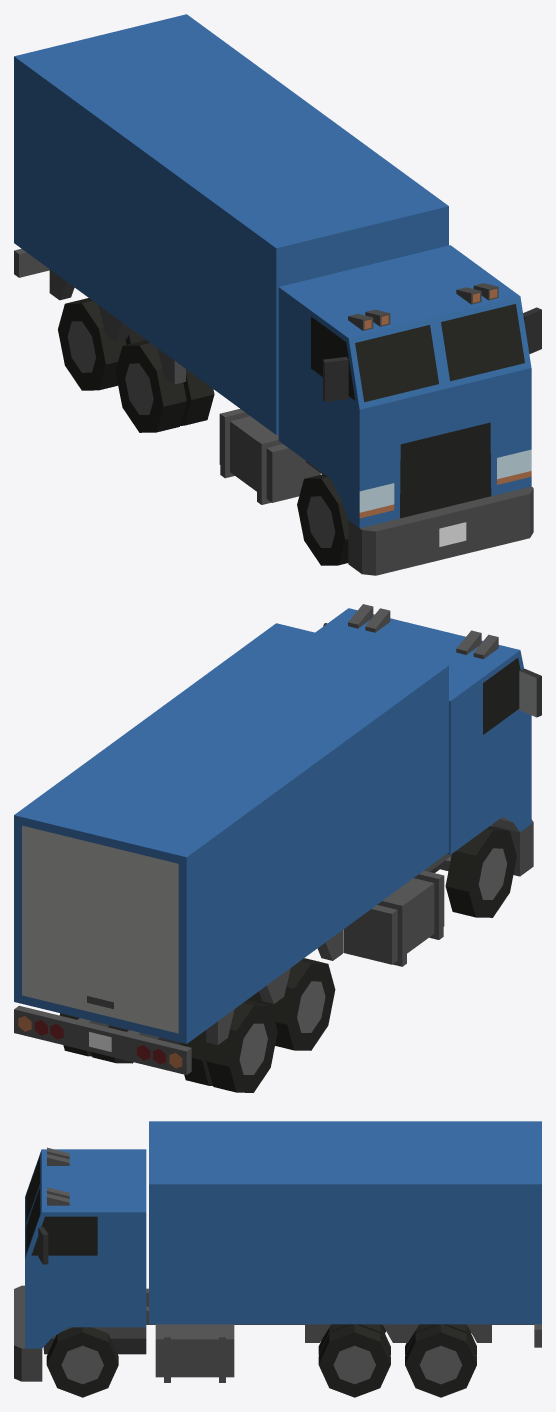
The model's file is Veh_Truck_03_Blue.glb.
3 views of the same model, one above another, from view 1: azimuth 30°, elevation 25°; view 2: azimuth 150°, elevation 25°; view 3: azimuth 270°, elevation 25° (orthographic). The views are drawn at different scales.
Visible parts, largest first — view 1: Truck_03_Blue, Wheel_RR1, Wheel_RR2, Wheel_FR; view 2: Truck_03_Blue, Wheel_RR2, Wheel_FR, Wheel_RR1; view 3: Truck_03_Blue, Wheel_RL1, Wheel_RL2, Wheel_FL.
Part boxes in pixels (x1=…): Truck_03_Blue: x1=14, y1=14, x2=541, y2=575; Wheel_RR1: x1=115, y1=340, x2=214, y2=432; Wheel_RR2: x1=58, y1=298, x2=146, y2=390; Wheel_FR: x1=297, y1=474, x2=348, y2=565; Truck_03_Blue: x1=14, y1=604, x2=541, y2=1074; Wheel_RR2: x1=180, y1=1000, x2=277, y2=1092; Wheel_FR: x1=445, y1=826, x2=516, y2=917; Wheel_RR1: x1=247, y1=958, x2=335, y2=1050; Truck_03_Blue: x1=14, y1=1121, x2=541, y2=1382; Wheel_RL1: x1=318, y1=1324, x2=390, y2=1397; Wheel_RL2: x1=405, y1=1324, x2=476, y2=1397; Wheel_FL: x1=46, y1=1327, x2=118, y2=1397.
Bounding box in the file's own units: 1.68 × 2.11 × 4.74.
Materials: 1 (1 with a texture image).
